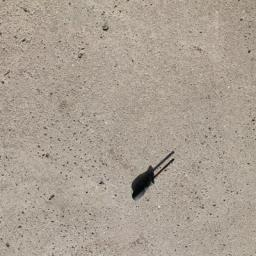FOD: (130, 149, 179, 203)
